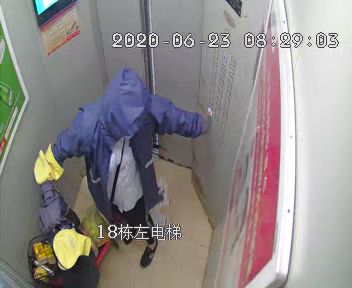Electric-bicycle: (28, 162, 110, 281)
